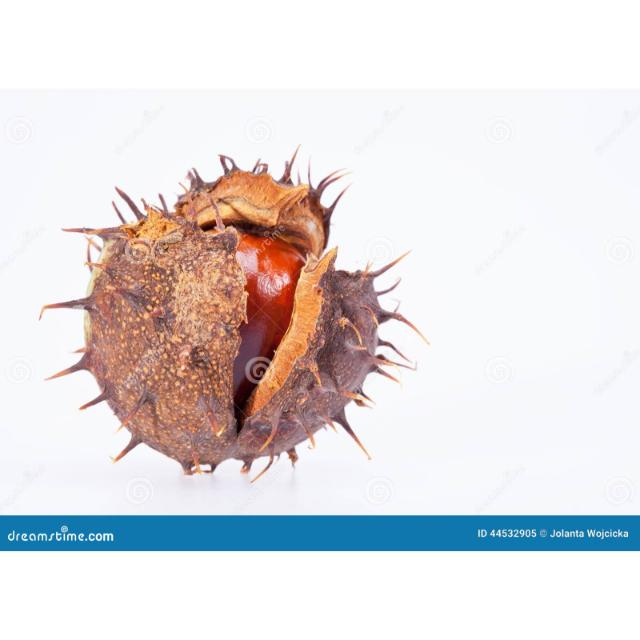organic: (63, 153, 428, 477)
